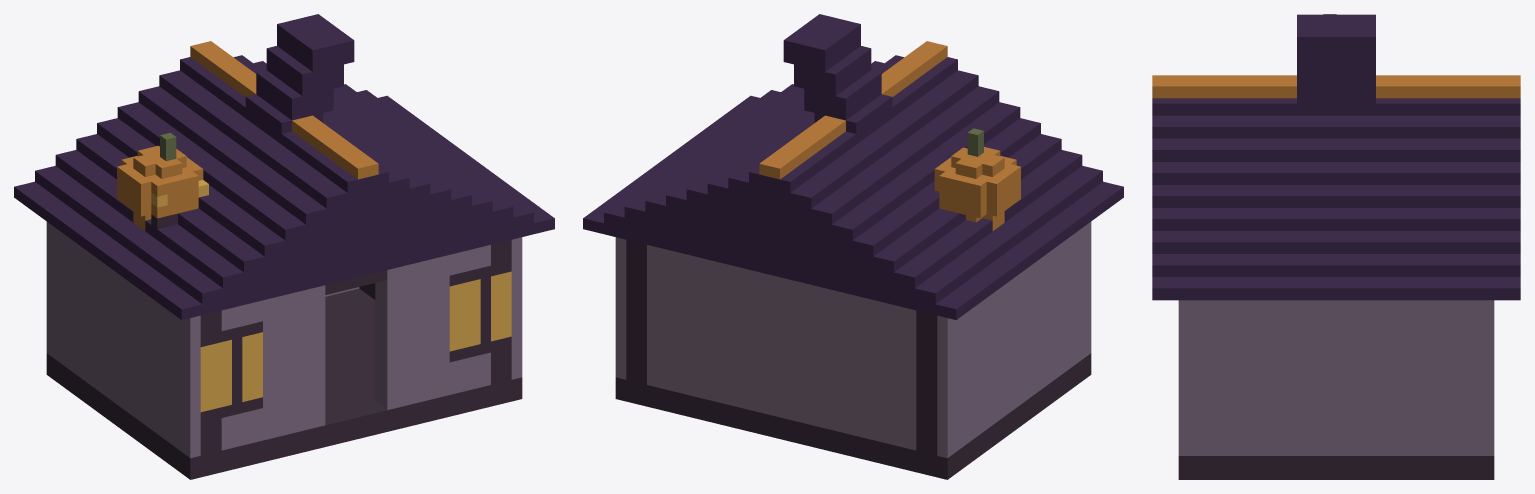
Rendered from house.glb.
The picture shows the model from 3 angles, left to right: view 1: azimuth 30°, elevation 25°; view 2: azimuth 150°, elevation 25°; view 3: azimuth 270°, elevation 25°; orthographic projection. The views are drawn at different scales.
Visible parts, largest first — view 1: Shell; view 2: Shell; view 3: Shell.
Boxes of the visible parts, x1,y1,x2,y2 form: Shell: (14, 14, 554, 479); Shell: (583, 14, 1123, 479); Shell: (1152, 14, 1520, 479).
Size of the model in its own units: 4.5 by 4 by 3.5.
